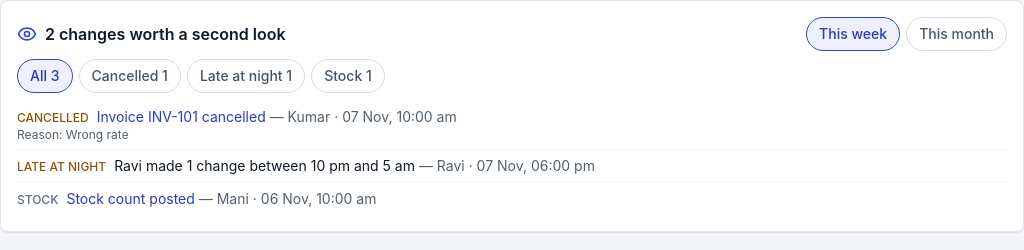
AuditWatchPanel › lists what to look at, linked to the document, and filters by kind
Expected: the heading "2 changes worth a second look" is shown, x1=45 y1=22 x2=286 y2=46
Expected: the text "Reason: Wrong rate" is shown, x1=17 y1=127 x2=129 y2=142
Click the button "Late at night 1" at (246, 76), box x1=187 y1=59 x2=305 y2=93
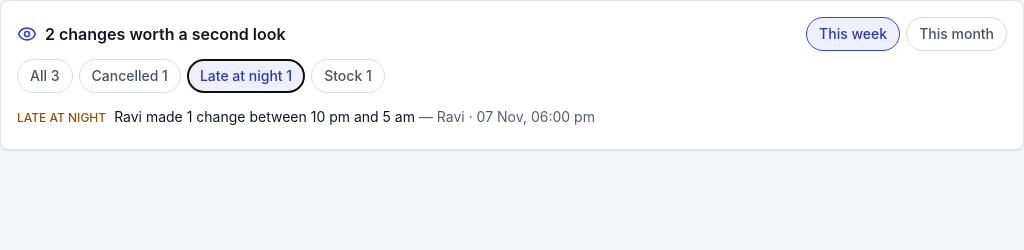
Expected: the text "Ravi made 1 change between 10 pm and 5 am" is shown, x1=114 y1=108 x2=415 y2=125
Result: the link "Invoice INV-101 cancelled" is gone
